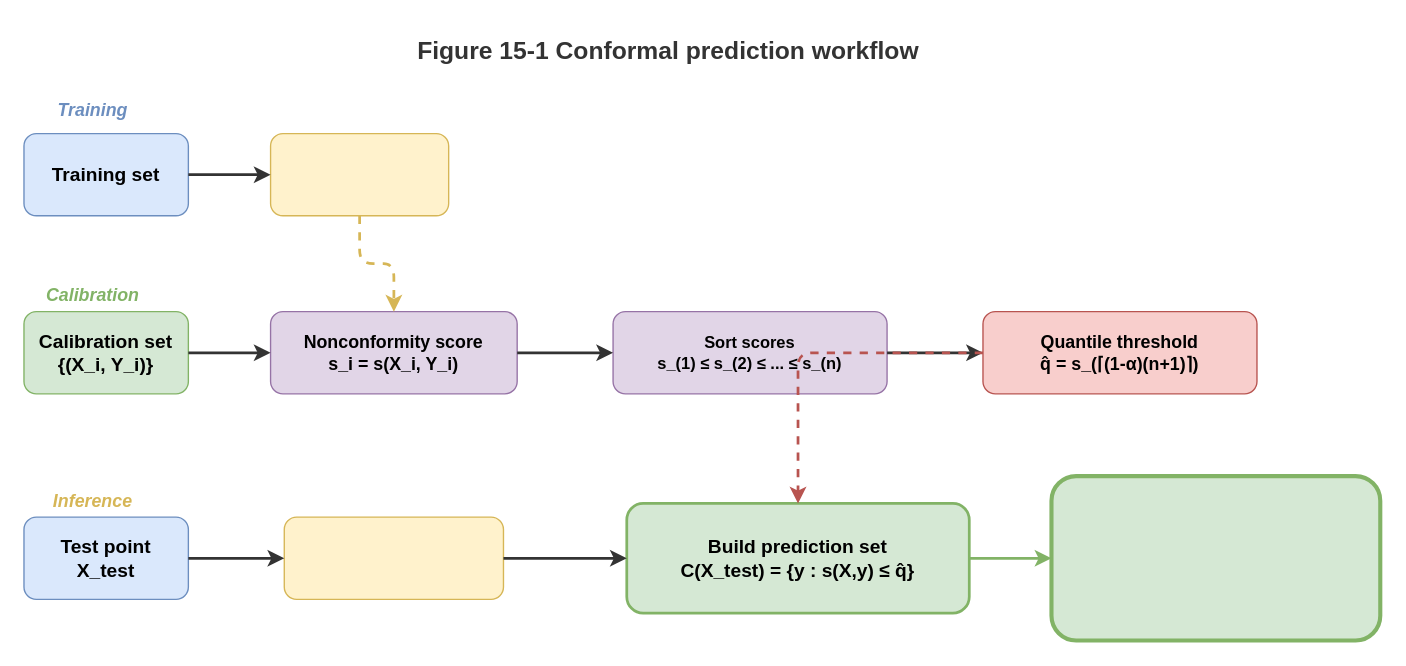
The diagram is 1406 pixels wide and 666 high, and some of its shapes have lost their labels. The centre of each missing label's shape, as x and y in pixels:
Coverage guarantee P(Y ∈ C(X)) ≥ 1 - α Distribution-free; finite-sample valid: (x=1215, y=557)
Model output f̂(X_test): (x=393, y=557)
Train model f̂: (x=359, y=174)
